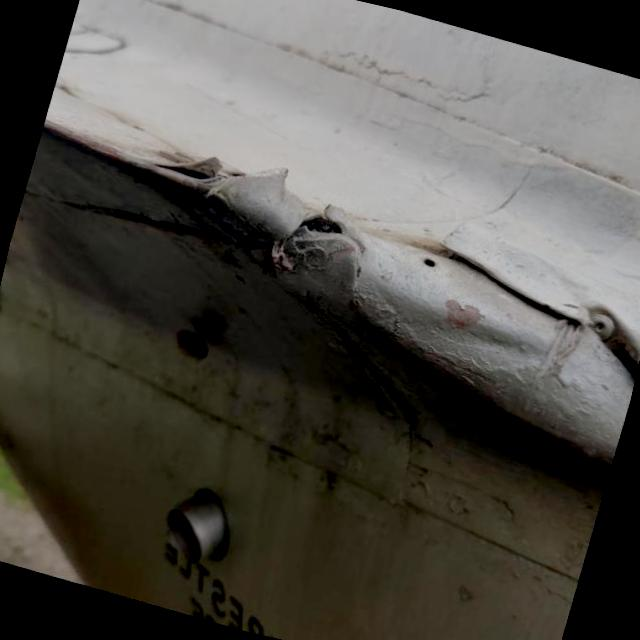Missing Fastener: (418, 248, 446, 271)
